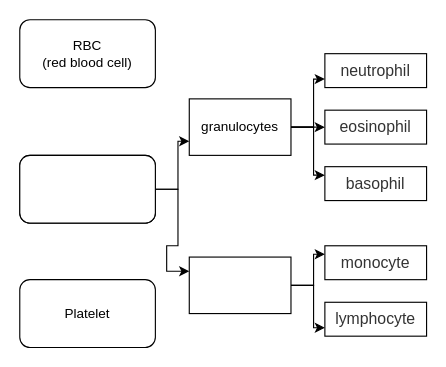
The diagram is 446 pixels wide and 367 high, and some of its shapes have lost their labels. The shapes that lost their labels are listed below. From the top down, each one's centre as x and y in pixels, then its label:
(87,188): WBC (white blood cell)
(239,285): agranulocytes
